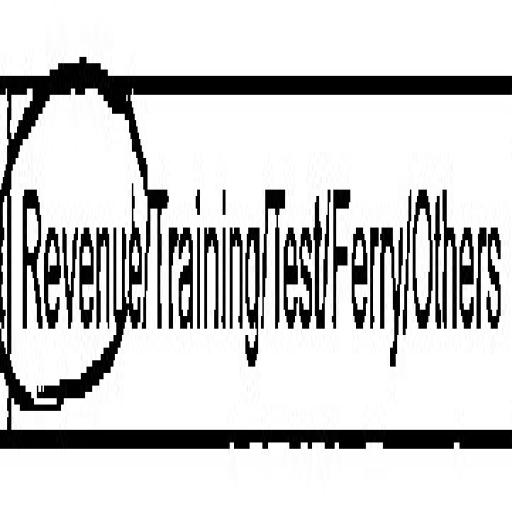check: (0, 0, 144, 451)
